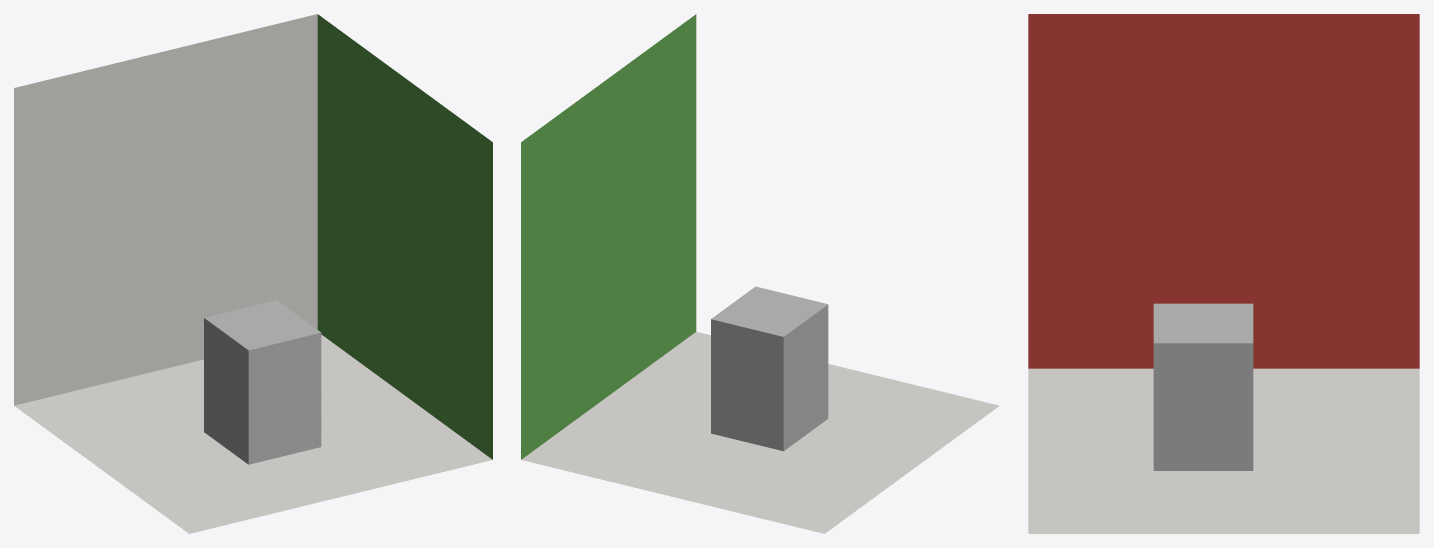
File: cornell_box_yellow_area_light.gltf
3 renders of one model, left to right at view 1: azimuth 30°, elevation 25°; view 2: azimuth 150°, elevation 25°; view 3: azimuth 270°, elevation 25°, orthographic. The views are drawn at different scales.
Parts seen in each view (by area): view 1: Cornell box; view 2: Cornell box; view 3: Cornell box.
Boxes of the visible parts, x1,y1,x2,y2 form: Cornell box: (14,14,492,533); Cornell box: (521,14,999,533); Cornell box: (1028,14,1419,533).
Bounding box in the file's own units: 2 × 2 × 2.
